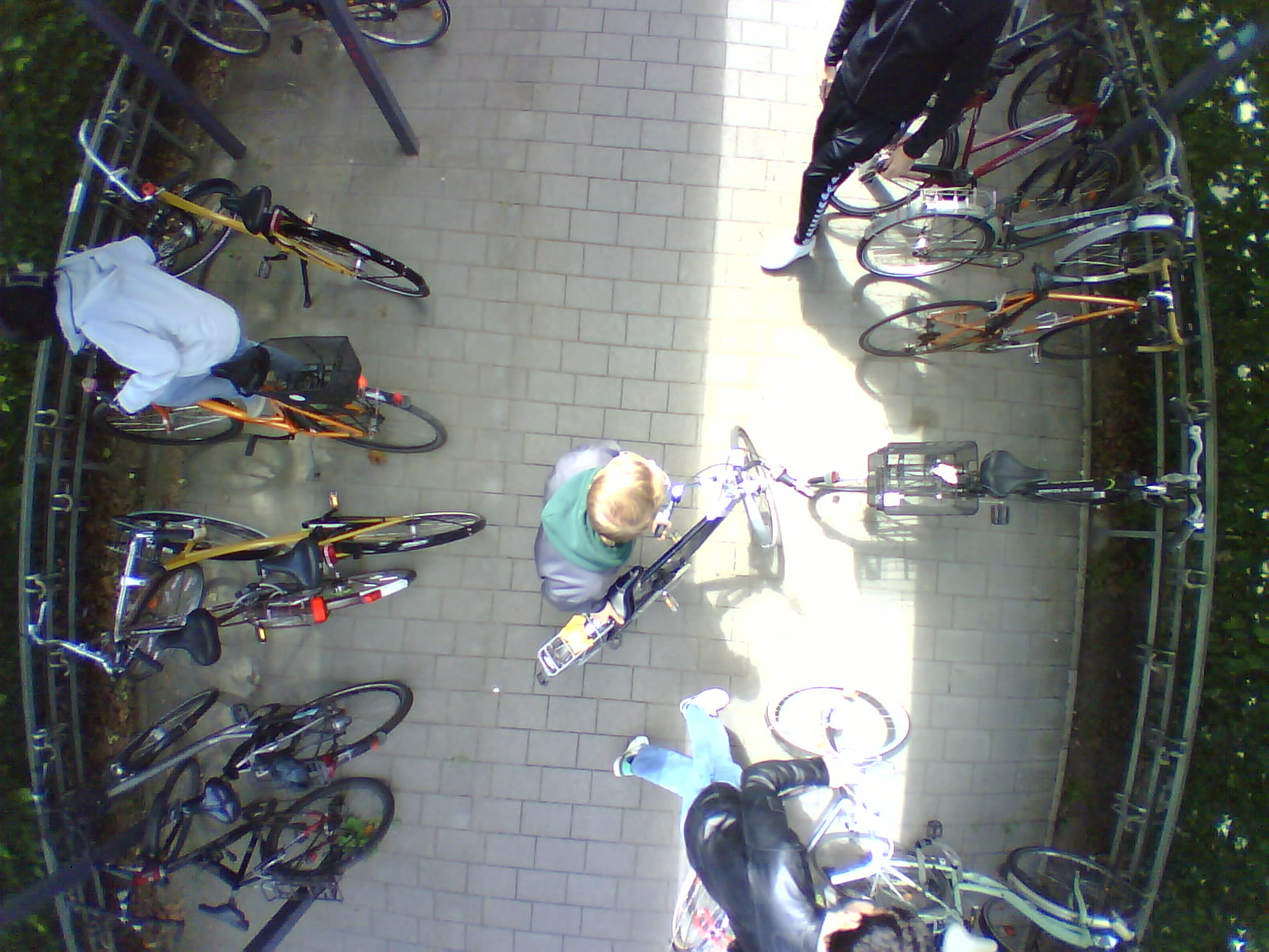bicylce: (535, 425, 777, 682), (816, 78, 1117, 234), (96, 777, 396, 932), (806, 819, 1150, 951), (132, 158, 432, 306), (835, 176, 1180, 303), (802, 434, 1206, 534), (88, 343, 457, 450), (96, 677, 412, 799), (98, 512, 484, 605), (69, 571, 416, 664), (852, 283, 1177, 371)
saddle: (982, 445, 1052, 504), (154, 610, 223, 668), (256, 539, 322, 594), (209, 342, 267, 398), (179, 780, 238, 828), (219, 184, 276, 233), (604, 561, 650, 619), (1028, 263, 1086, 303), (195, 901, 253, 934), (940, 920, 998, 952)
